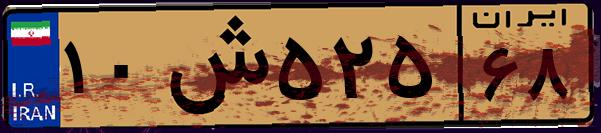0: (110, 28, 158, 98)
1: (57, 26, 110, 100)
2: (330, 28, 385, 110)
5: (270, 28, 330, 110), (385, 28, 445, 110)
6: (475, 38, 525, 113)
8: (525, 38, 570, 115)
ش: (158, 12, 270, 120)
